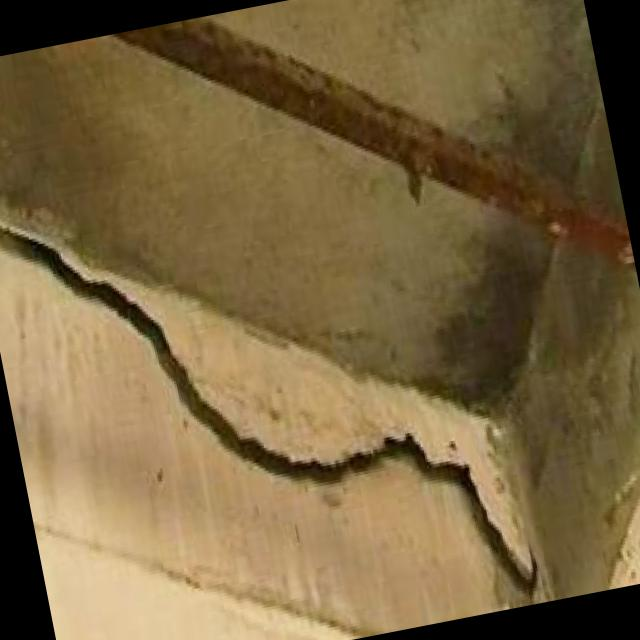crack: (0, 224, 537, 594)
